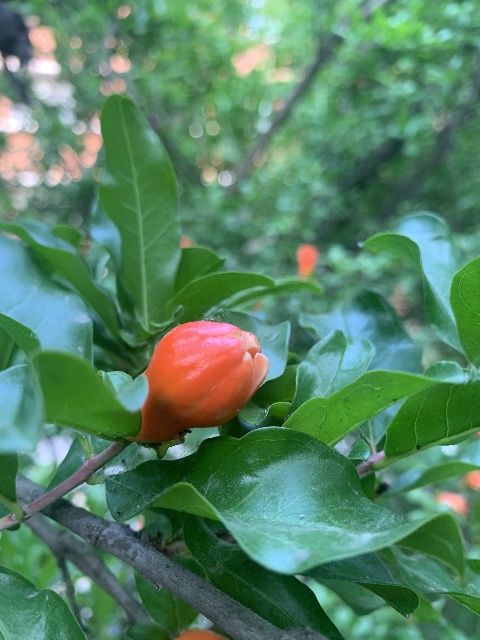bud: (131, 320, 270, 443)
